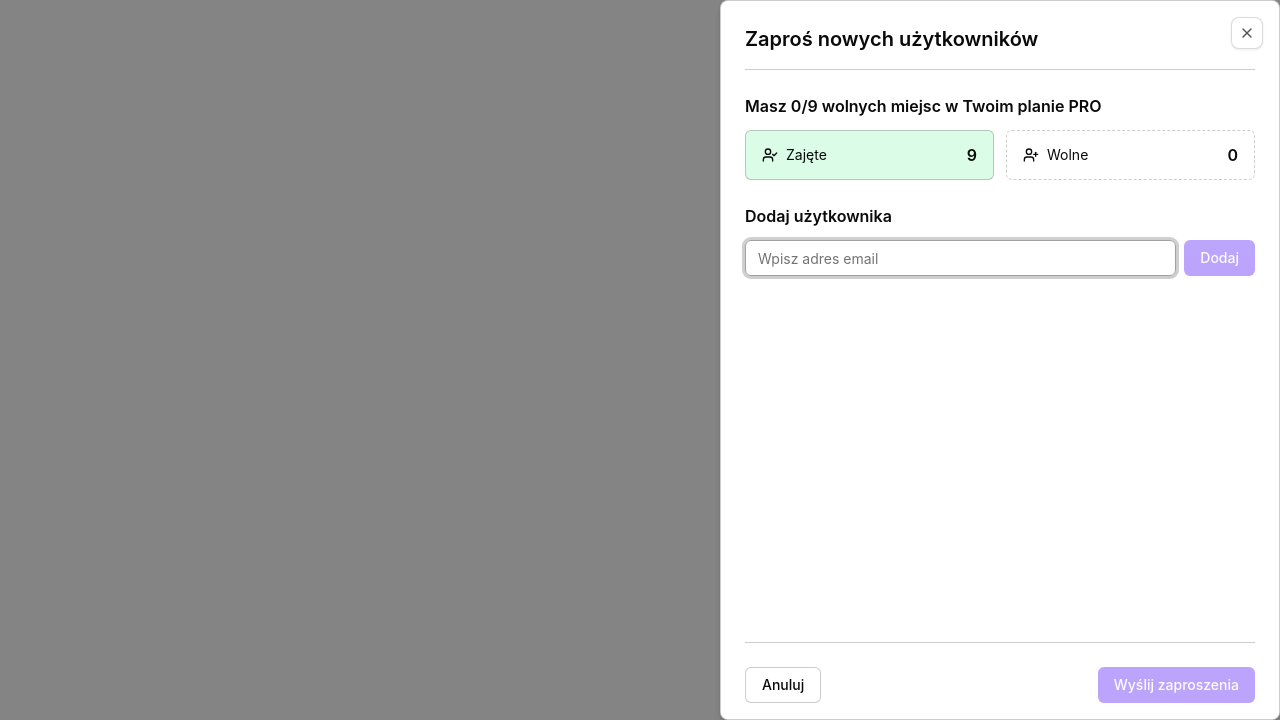
Test: InviteUsersDialog Payment Flow › Payment Processing State › should disable buttons during payment processing
Step 1. Type "user@example.com" into the field with placeholder "Wpisz adres email" → x=961, y=258, box [745, 240, 1176, 276]
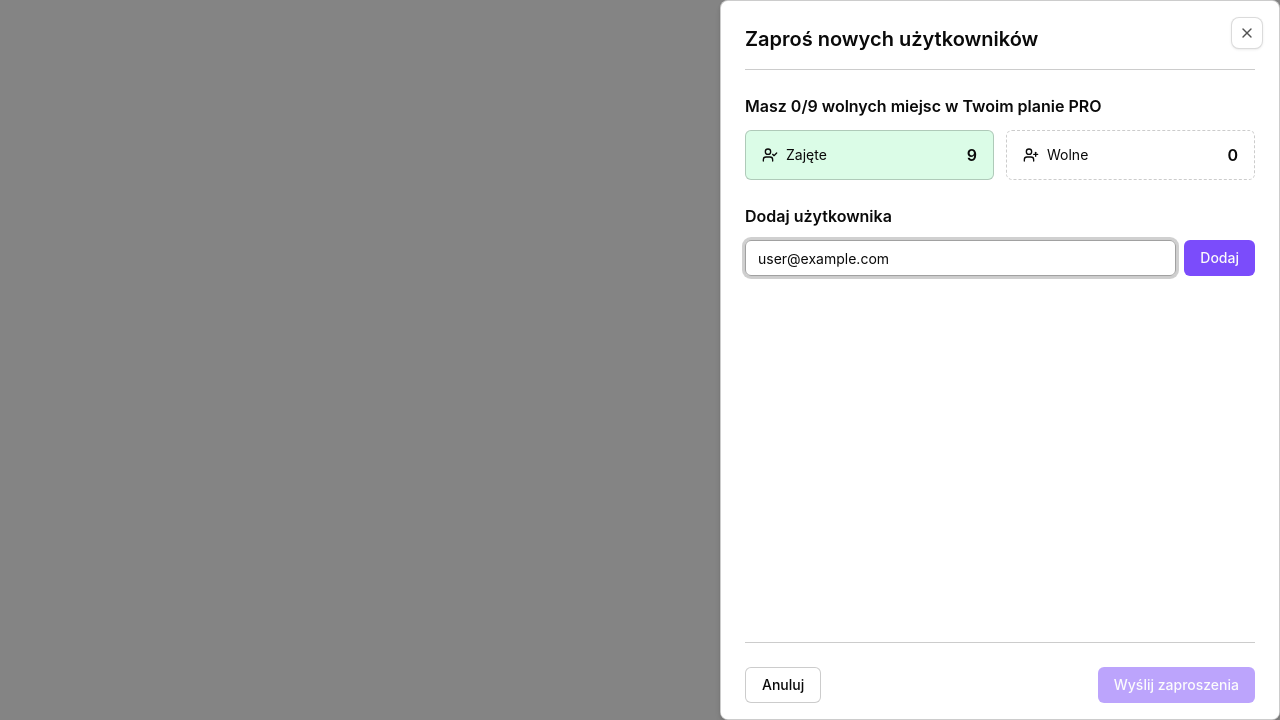
Step 2. Click the button "Dodaj" → x=1220, y=258, box [1184, 240, 1255, 276]
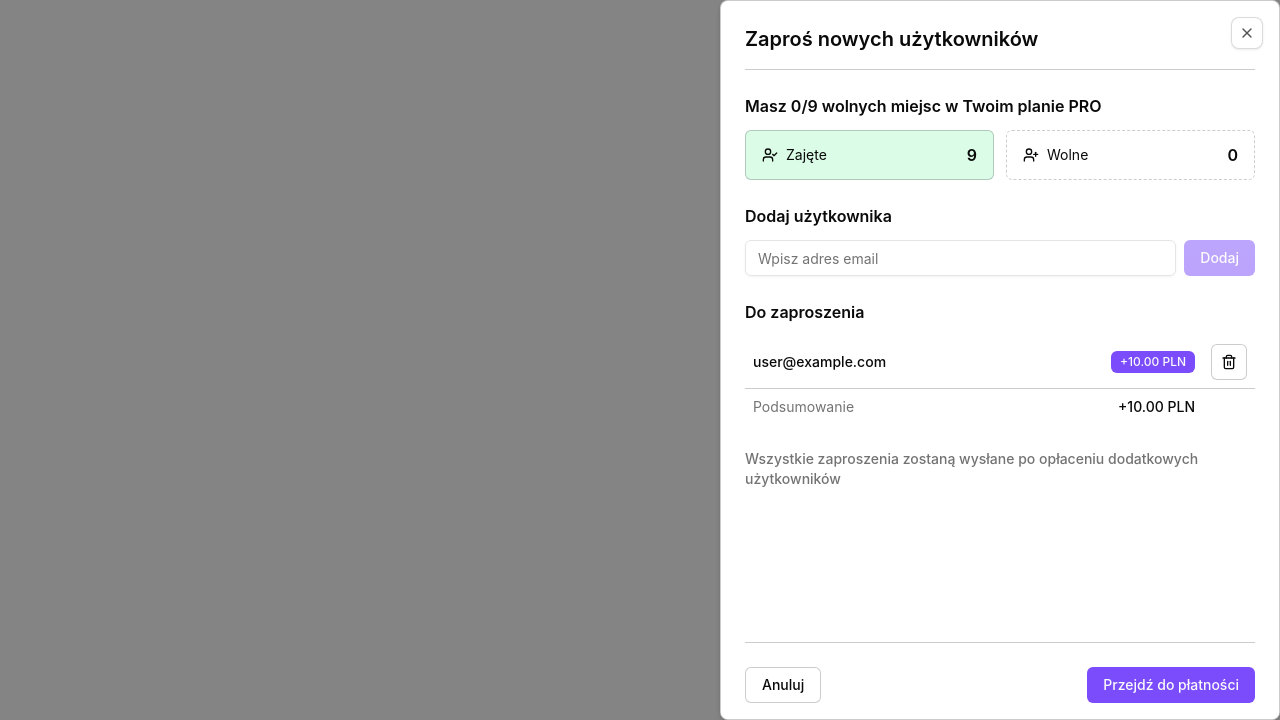
Step 3. Click the button "Przejdź do płatności" → x=1171, y=685, box [1087, 667, 1255, 703]
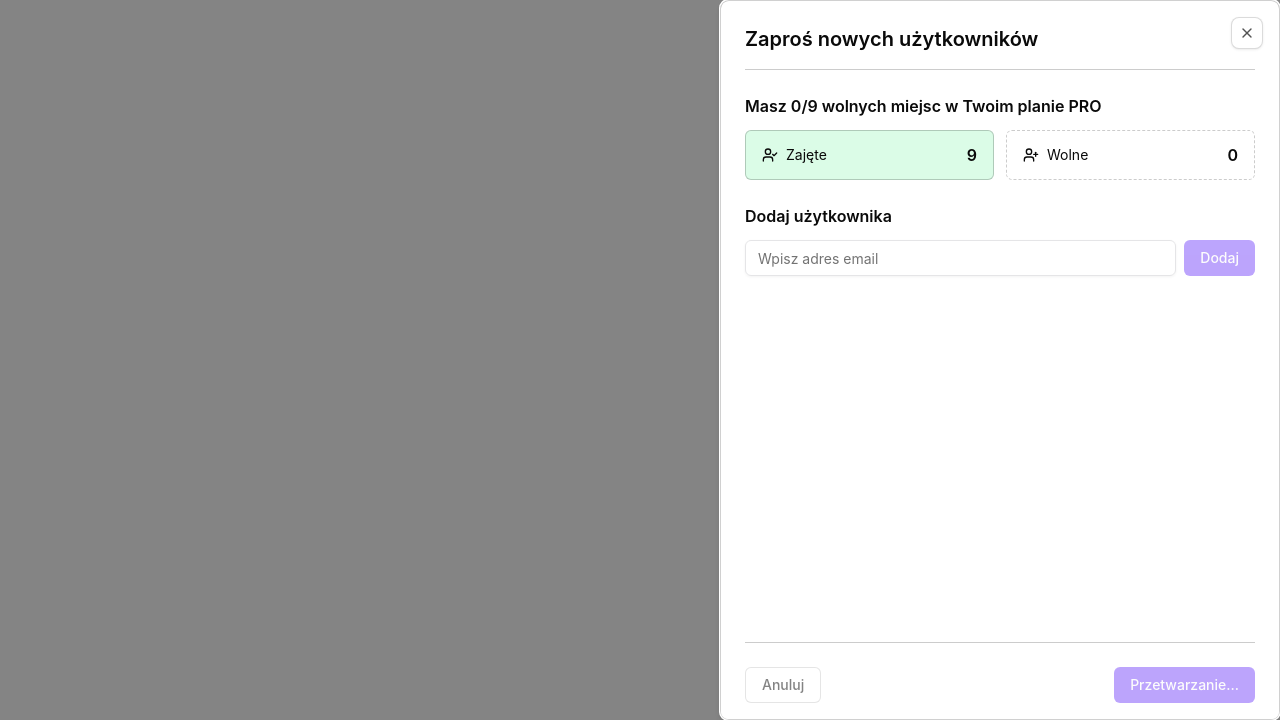
expect the button "Przetwarzanie..." is shown: met, box [1114, 667, 1255, 703]
